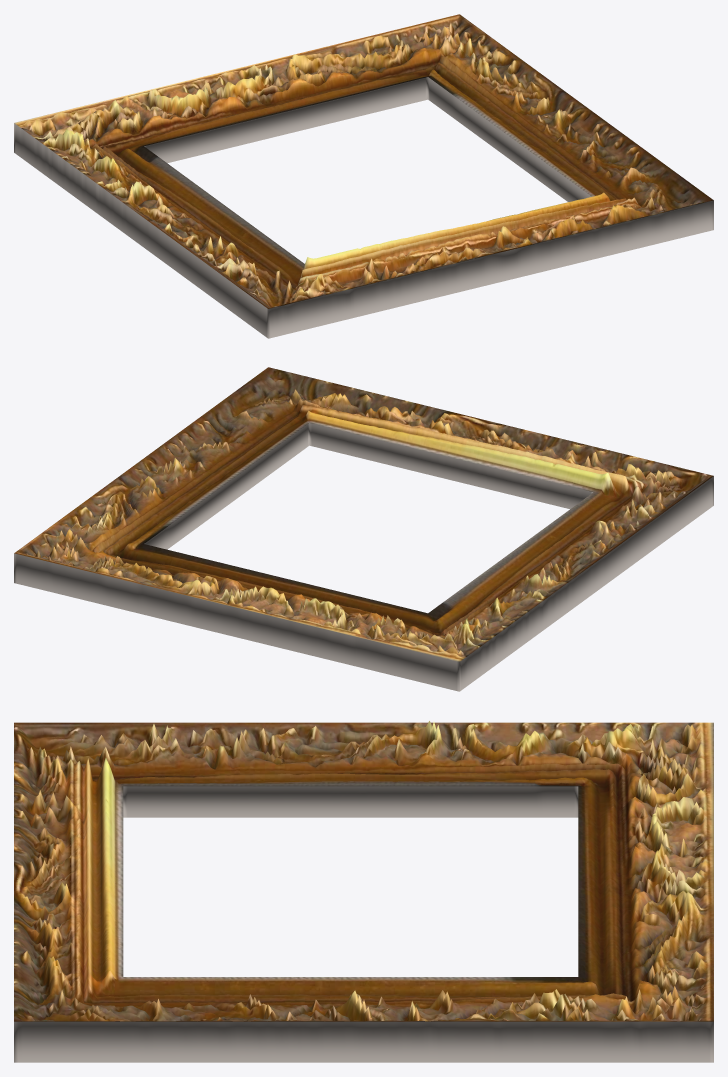
Rendered from ornate_frame_3.glb.
3 renders of one model, top to bottom at view 1: azimuth 30°, elevation 25°; view 2: azimuth 150°, elevation 25°; view 3: azimuth 270°, elevation 25°, orthographic. The views are drawn at different scales.
Parts seen in each view (by area): view 1: Frame3; view 2: Frame3; view 3: Frame3.
Part boxes in pixels (x1,y1,x2,y2): Frame3: (14,14,713,338); Frame3: (14,367,713,691); Frame3: (14,721,713,1062).
Bounding box in the file's own units: 0.267 × 0.0227 × 0.264.
1 material, 1 textured.
